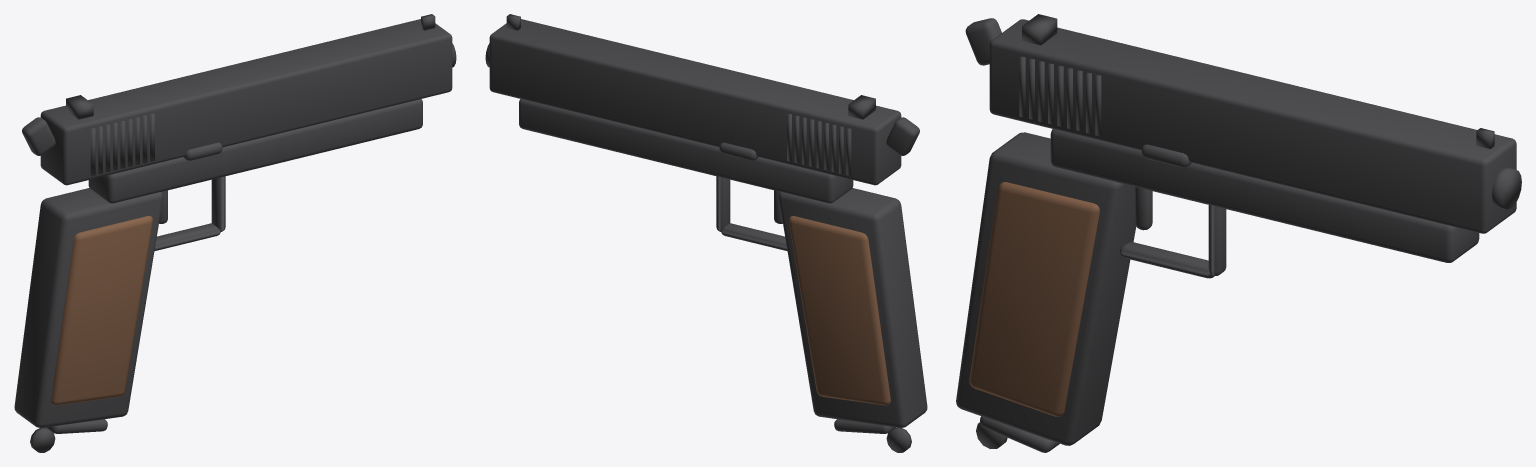
The model's file is SM_Pistol_M1911.glb.
3 renders of one model, left to right at view 1: azimuth 30°, elevation 25°; view 2: azimuth 150°, elevation 25°; view 3: azimuth 330°, elevation 25°, orthographic. The views are drawn at different scales.
Visible parts, largest first — view 1: SM_Pistol_M1911; view 2: SM_Pistol_M1911; view 3: SM_Pistol_M1911.
Boxes of the visible parts, bbox=[...] form: SM_Pistol_M1911: bbox=[14, 14, 456, 452]; SM_Pistol_M1911: bbox=[485, 14, 927, 452]; SM_Pistol_M1911: bbox=[956, 14, 1521, 452].
Bounding box in the file's own units: 0.229 × 0.176 × 0.029.
